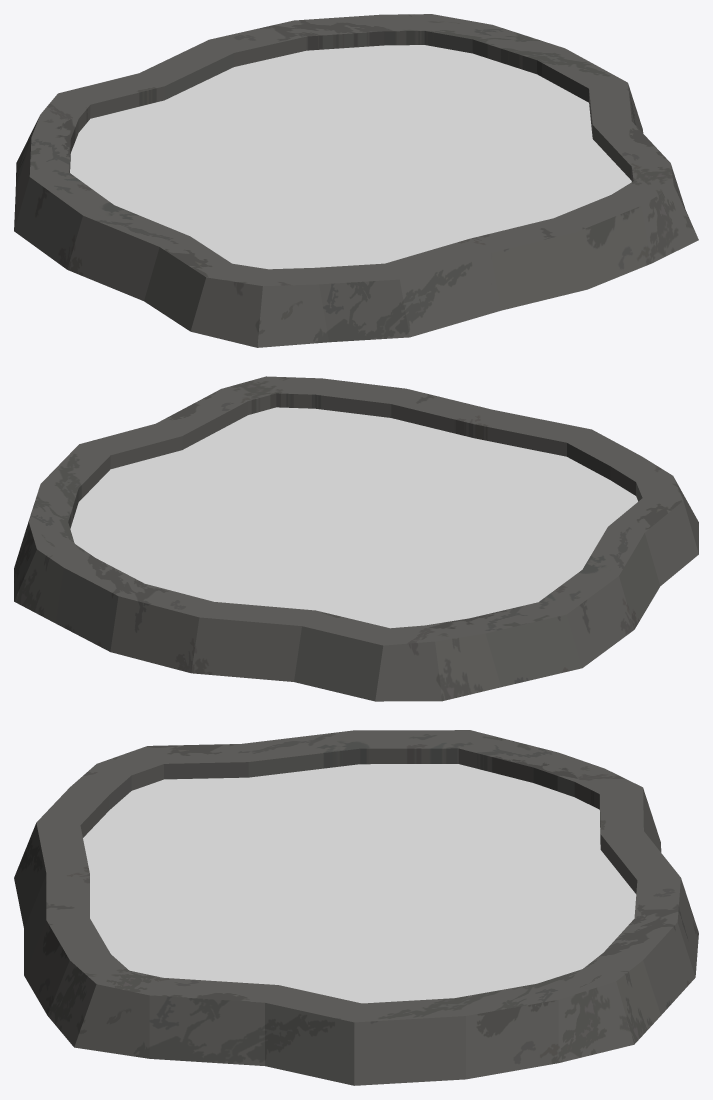
Rendered from Hole.fbx.
3 views of the same model, one above another, from view 1: azimuth 30°, elevation 25°; view 2: azimuth 150°, elevation 25°; view 3: azimuth 270°, elevation 25° (orthographic). The views are drawn at different scales.
Parts seen in each view (by area): view 1: Hole; view 2: Hole; view 3: Hole.
Part boxes in pixels (x1,y1,x2,y2): Hole: (14, 14, 698, 347); Hole: (14, 376, 698, 701); Hole: (14, 730, 698, 1085).
Size of the model in its own units: 119 by 9.96 by 112.
